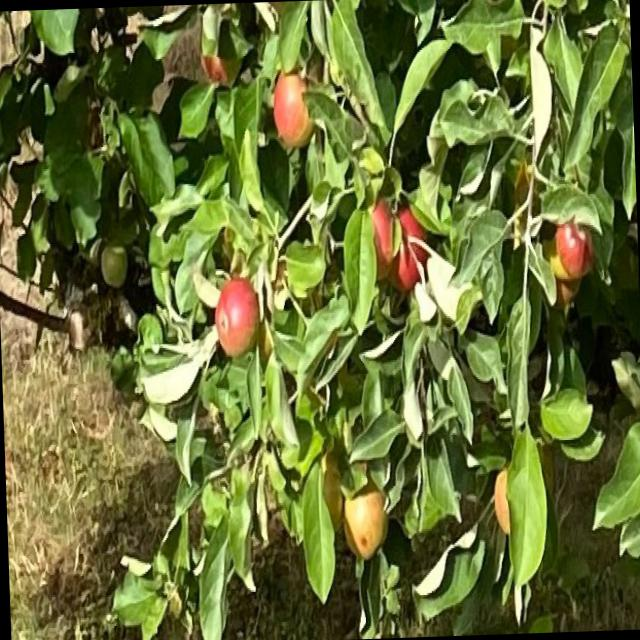Apples: (273, 66, 314, 150), (214, 280, 260, 354), (342, 486, 387, 555), (393, 208, 429, 282), (556, 219, 596, 279), (370, 199, 392, 278), (202, 46, 240, 86), (322, 466, 344, 526), (494, 469, 510, 532)
